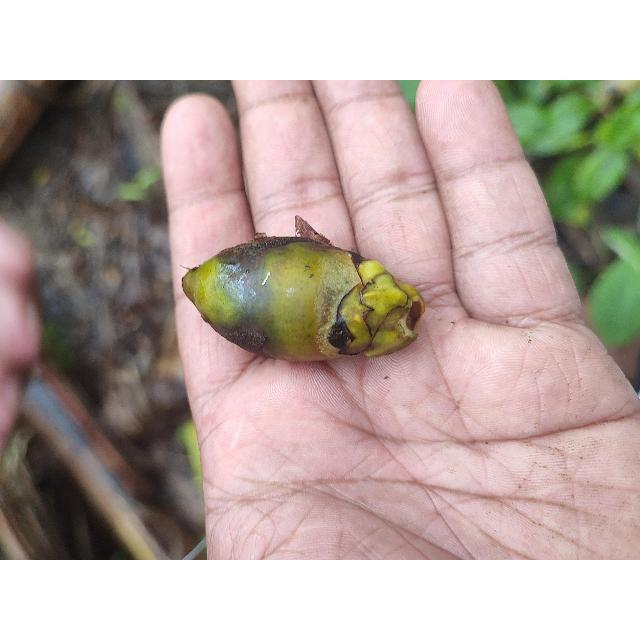damaged: (181, 237, 425, 364)
